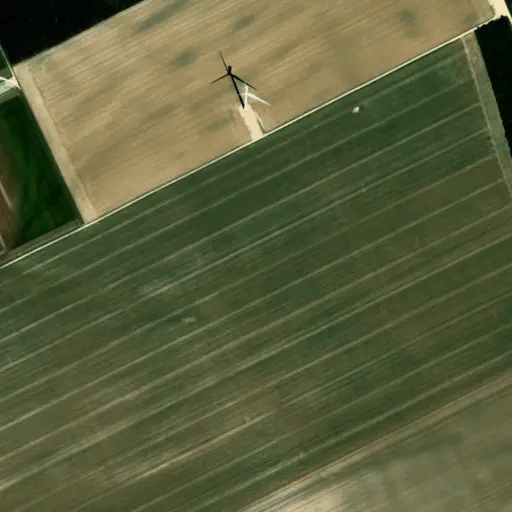wt: (205, 46, 273, 126)
